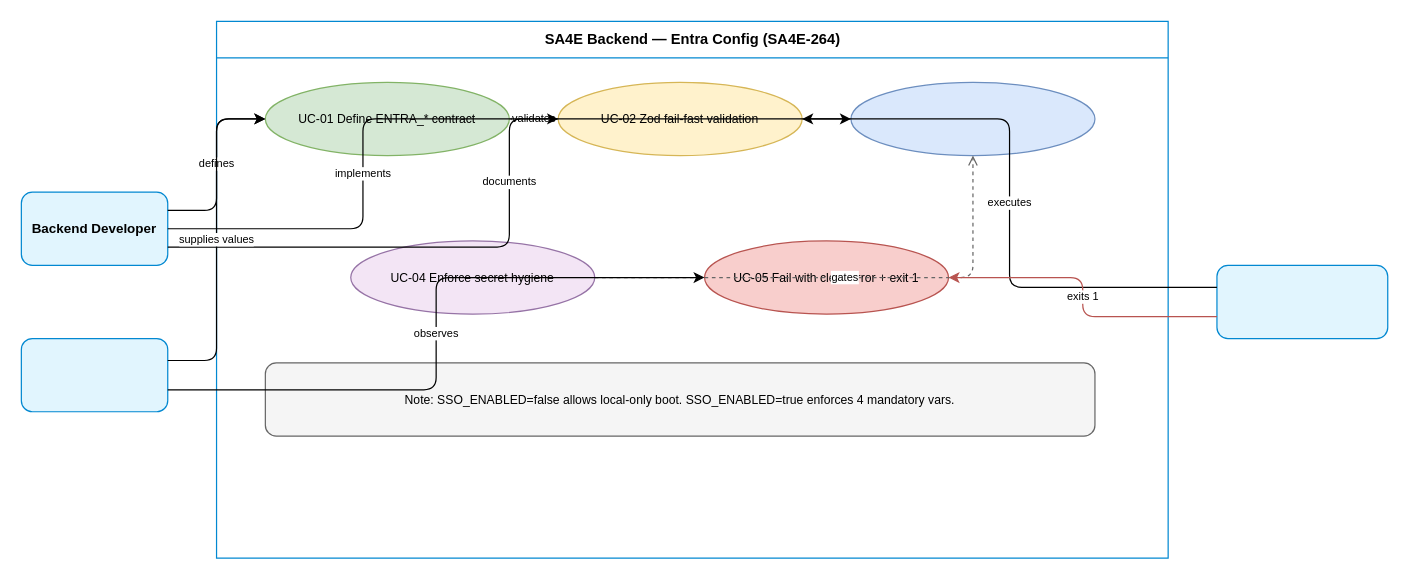
The diagram is 1409 pixels wide and 580 high, and some of its shapes have lost their labels. Each missing label, with the centre of its shape:
"Backend Server (startup validator)" belongs at [1302,301].
"DevOps / Operator" belongs at [94,374].
"UC-03 Document .env.example" belongs at [972,118].
